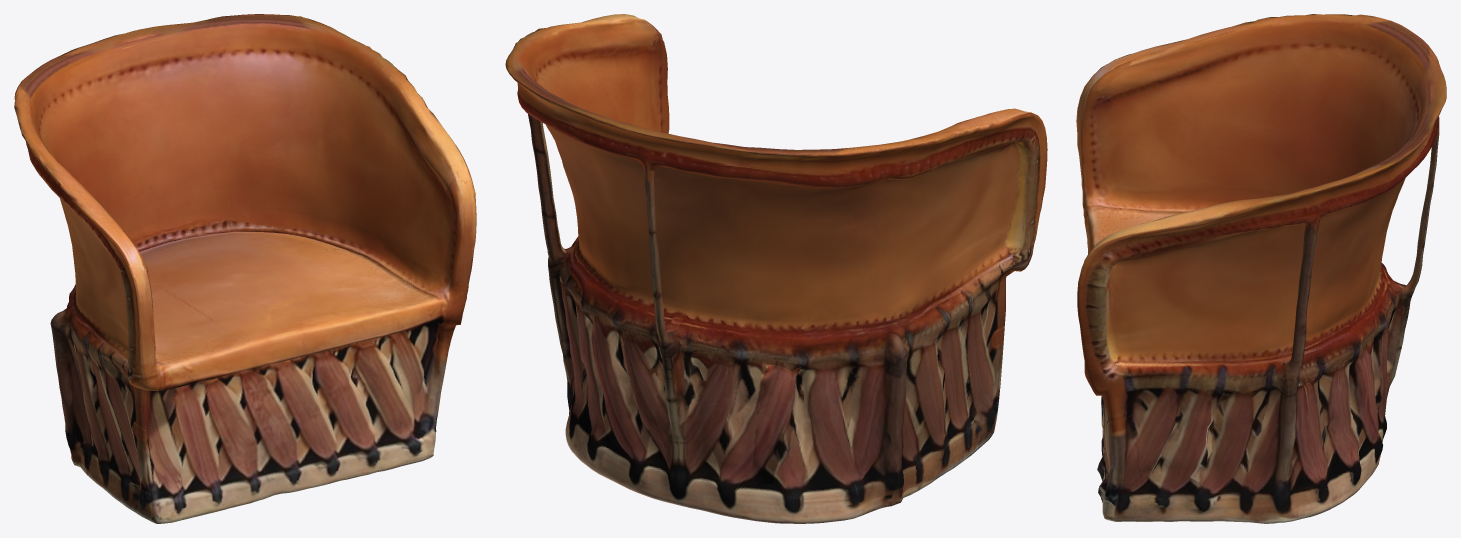
File: Leather_Barrel_Chair__0428040229_texture.glb
3 renders of one model, left to right at view 1: azimuth 30°, elevation 25°; view 2: azimuth 150°, elevation 25°; view 3: azimuth 270°, elevation 25°, orthographic. The views are drawn at different scales.
Visible parts, largest first — view 1: Mesh_0.001; view 2: Mesh_0.001; view 3: Mesh_0.001.
Boxes of the visible parts, bbox=[...] form: Mesh_0.001: bbox=[14, 14, 476, 523]; Mesh_0.001: bbox=[505, 14, 1047, 523]; Mesh_0.001: bbox=[1076, 14, 1446, 523].
Bounding box in the file's own units: 31.95 × 29 × 26.83.
Materials: 1 (1 with a texture image).
